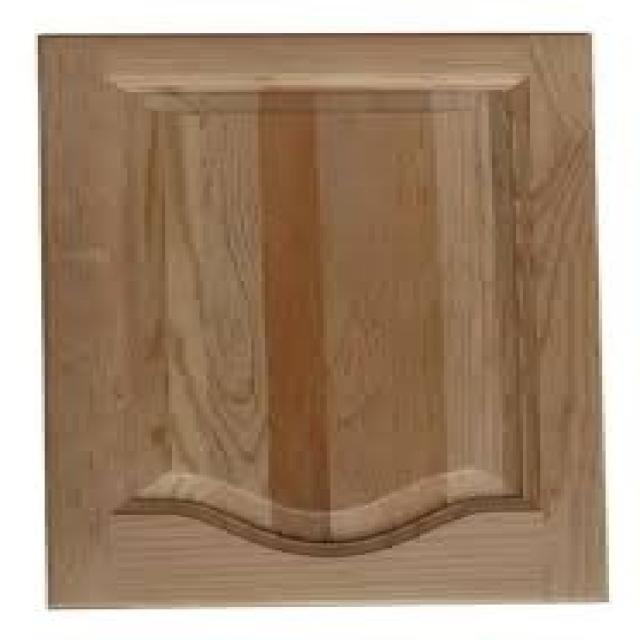door: (38, 32, 609, 610)
